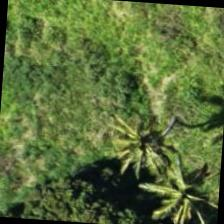Kelapa_Sawit: (86, 100, 182, 196), (141, 145, 221, 223)
